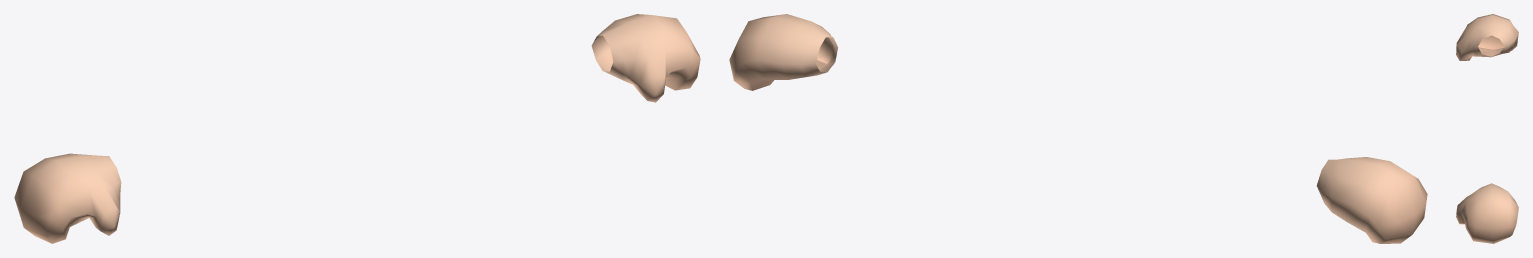
The model's file is Body_White_Hand.fbx.
The picture shows the model from 3 angles, left to right: view 1: azimuth 30°, elevation 25°; view 2: azimuth 150°, elevation 25°; view 3: azimuth 270°, elevation 25°; orthographic projection. The views are drawn at different scales.
Visible parts, largest first — view 1: Body_White_Hand; view 2: Body_White_Hand; view 3: Body_White_Hand.
Boxes of the visible parts, box(x1,y1,x2,y2) form: Body_White_Hand: box(14, 14, 700, 243); Body_White_Hand: box(729, 14, 1427, 243); Body_White_Hand: box(1456, 14, 1518, 243).
Size of the model in its own units: 130 by 13.15 by 17.22.
